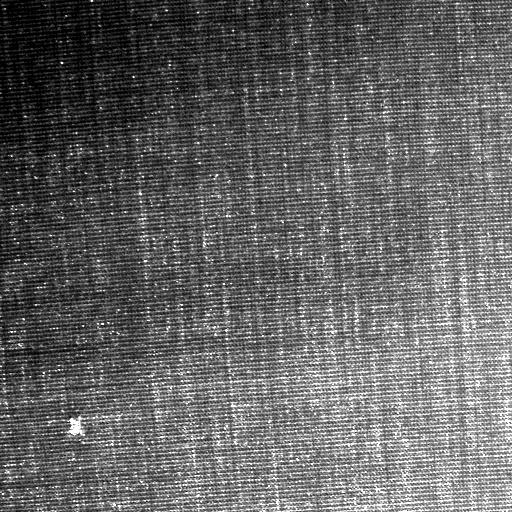fabric_hole: (66, 412, 88, 440)
